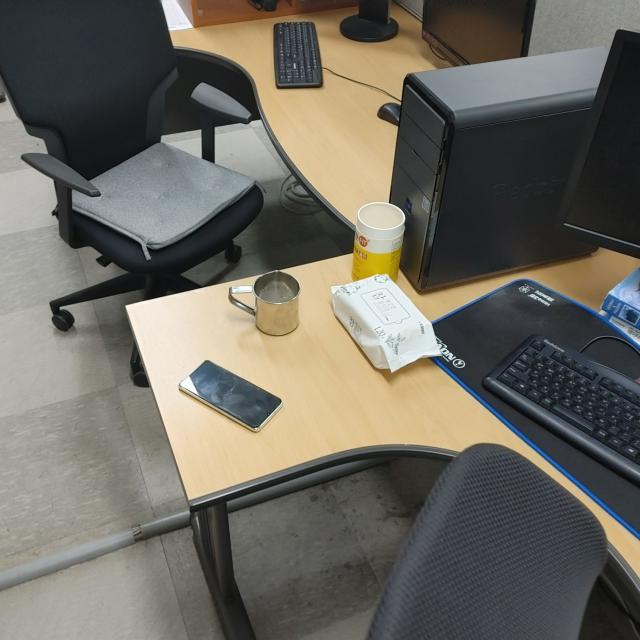cup: (228, 271, 302, 338)
phone: (180, 358, 287, 432)
